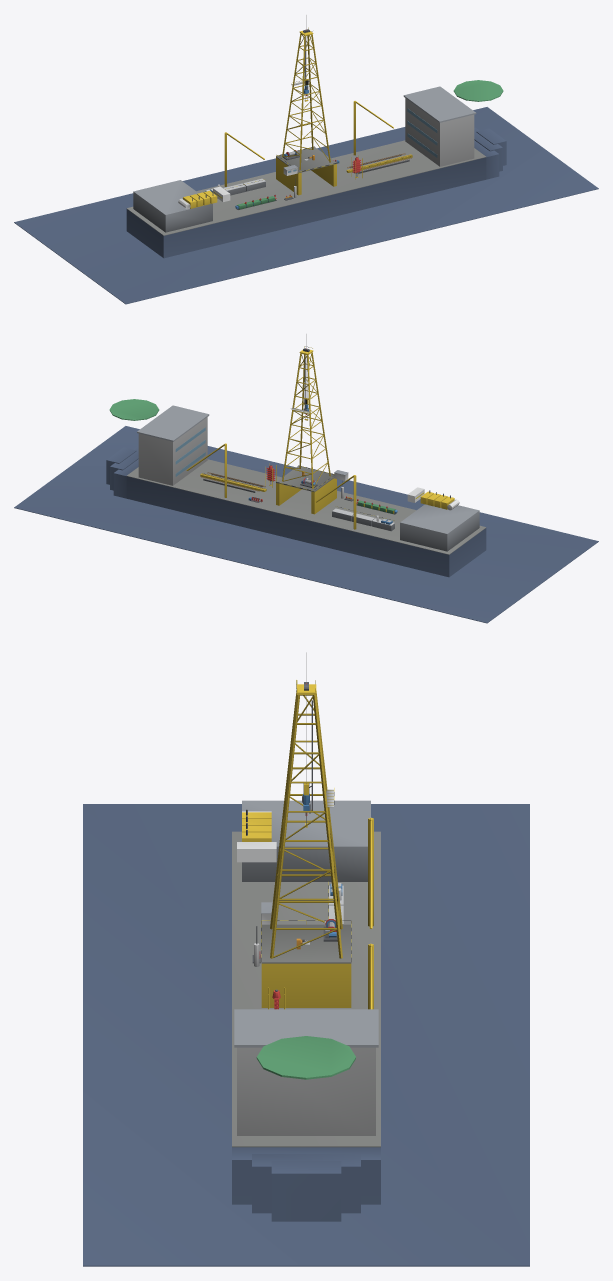
File: ship_low.glb
The picture shows the model from 3 angles, top to bottom: view 1: azimuth 30°, elevation 25°; view 2: azimuth 150°, elevation 25°; view 3: azimuth 270°, elevation 25°; orthographic projection. The views are drawn at different scales.
Visible parts, largest first — view 1: hull__sea, hull__hull, mast__mast, mast__substructure, mast__floor, generators__gensets; view 2: hull__sea, hull__hull, mast__mast, mast__substructure, mast__floor, mudtanks__tanks, generators__gensets; view 3: hull__sea, hull__hull, mast__mast, mast__substructure, mast__floor, generators__gensets, generators__vfd.
Boxes of the visible parts, <box> form: hull__sea: <box>14,107,598,304</box>; hull__hull: <box>126,80,506,258</box>; mast__mast: <box>282,33,330,169</box>; mast__substructure: <box>276,157,336,195</box>; mast__floor: <box>276,146,336,173</box>; generators__gensets: <box>183,190,217,208</box>; hull__sea: <box>14,426,598,623</box>; hull__hull: <box>106,399,486,577</box>; mast__mast: <box>282,352,330,488</box>; mast__substructure: <box>276,478,336,514</box>; mast__floor: <box>276,465,334,492</box>; mudtanks__tanks: <box>332,506,394,531</box>; generators__gensets: <box>420,490,454,509</box>; hull__sea: <box>83,804,529,1266</box>; hull__hull: <box>232,800,380,1221</box>; mast__mast: <box>270,690,342,958</box>; mast__substructure: <box>261,963,351,1007</box>; mast__floor: <box>261,920,351,963</box>; generators__gensets: <box>242,809,271,841</box>; generators__vfd: <box>237,842,276,862</box>.
Bounding box in the file's own units: 220 × 92.72 × 89.99.
